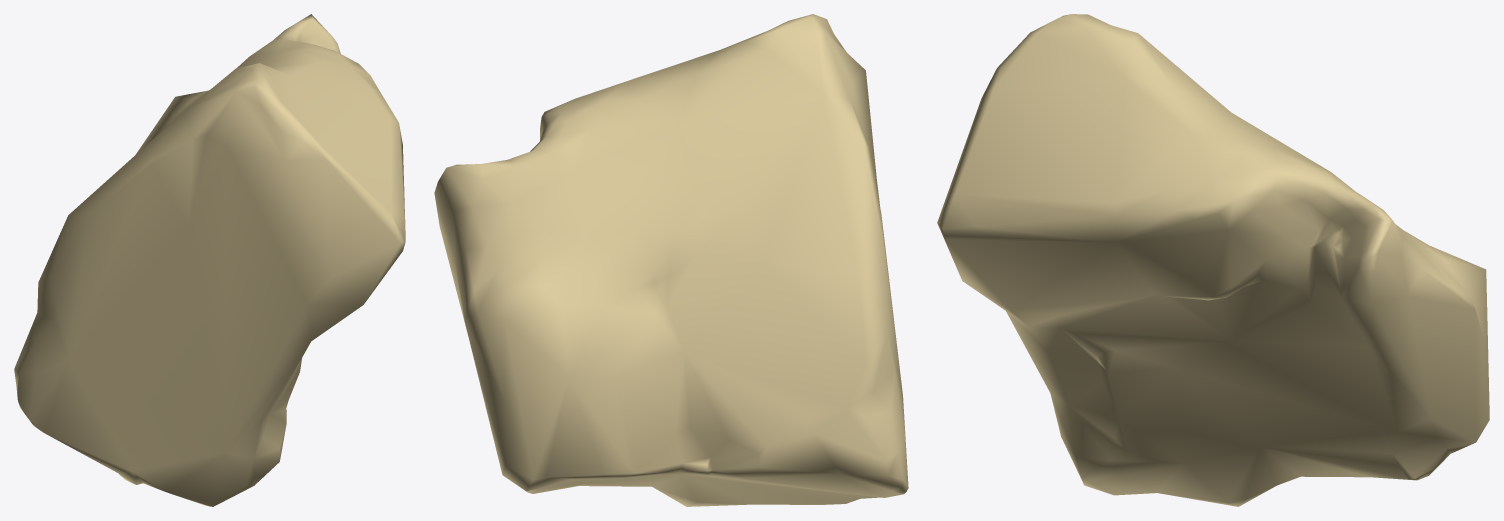
3 renders of one model, left to right at view 1: azimuth 30°, elevation 25°; view 2: azimuth 150°, elevation 25°; view 3: azimuth 270°, elevation 25°, orthographic. The views are drawn at different scales.
Visible parts, largest first — view 1: 右侧外侧楔骨; view 2: 右侧外侧楔骨; view 3: 右侧外侧楔骨.
Boxes of the visible parts, box(x1,y1,x2,y2) form: 右侧外侧楔骨: box(14, 14, 405, 506); 右侧外侧楔骨: box(434, 14, 908, 506); 右侧外侧楔骨: box(937, 14, 1489, 506).
Size of the model in its own units: 0.0357 by 0.039 by 0.0396.
